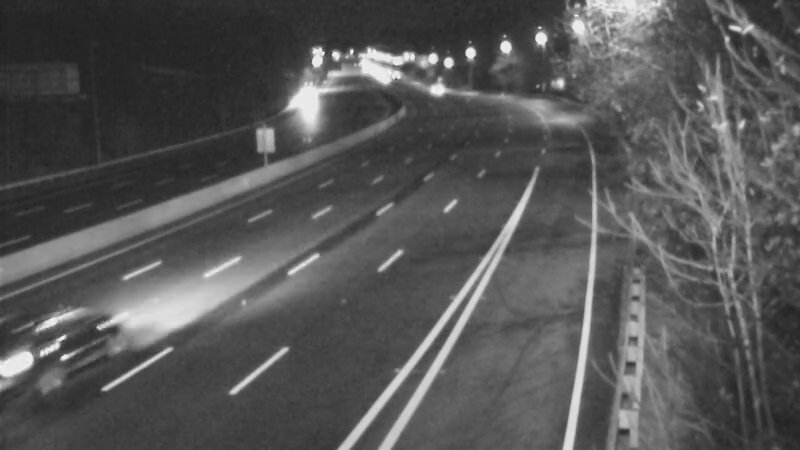vehicle: (15, 298, 125, 408), (412, 63, 462, 113)
